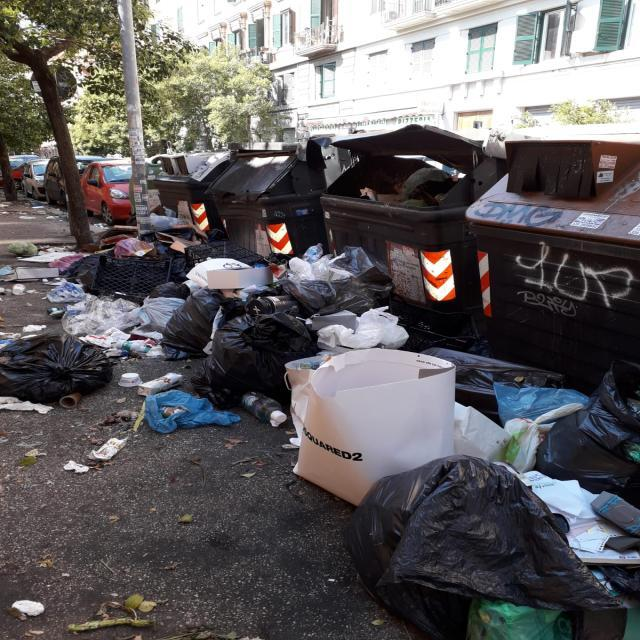Trashbag: (344, 456, 626, 640), (537, 369, 640, 496), (192, 312, 318, 414), (416, 343, 562, 425), (270, 246, 398, 315), (0, 332, 113, 400), (162, 289, 224, 360), (58, 243, 105, 288)
